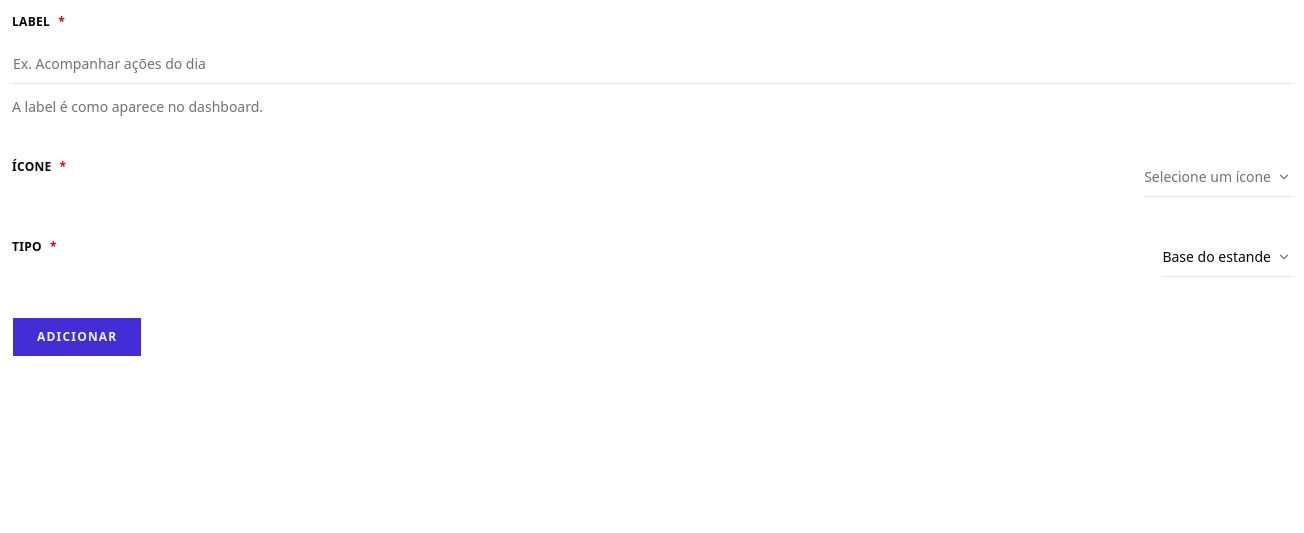
Test: ChecklistItemCreateForm › campos de horário (rotina diária) › exibe badge de período derivado ao preencher o horário de fim
Click the dropdown named "tipo" at [1227, 256], box top-left (1161, 236), bottom-right (1292, 276)
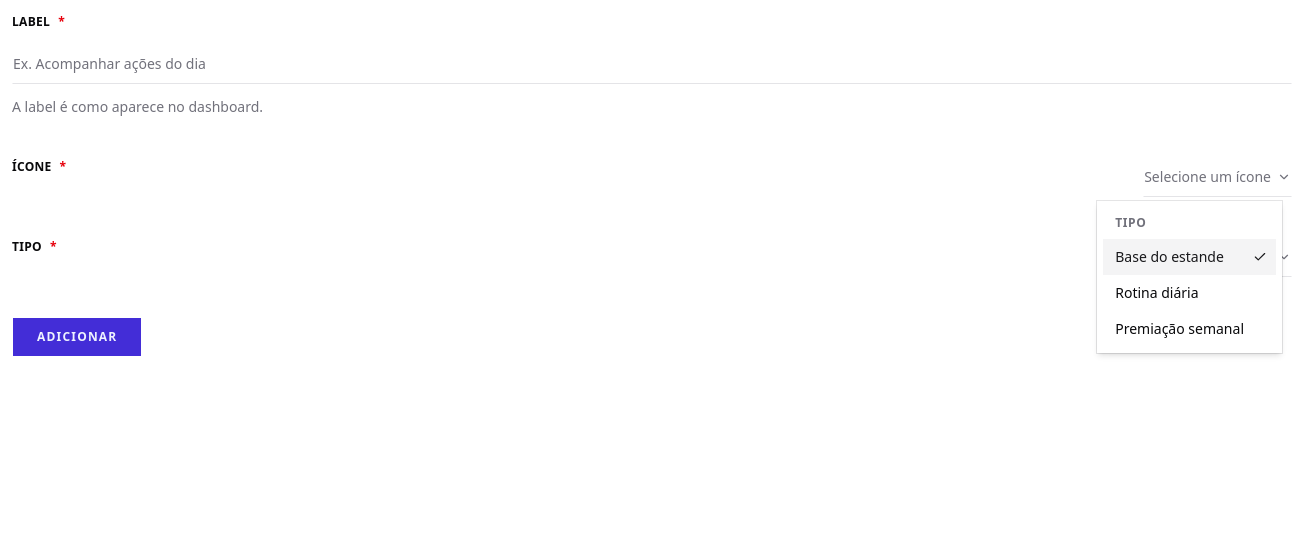
Click the option "Rotina diária" at [1157, 292], box top-left (1115, 282), bottom-right (1198, 302)
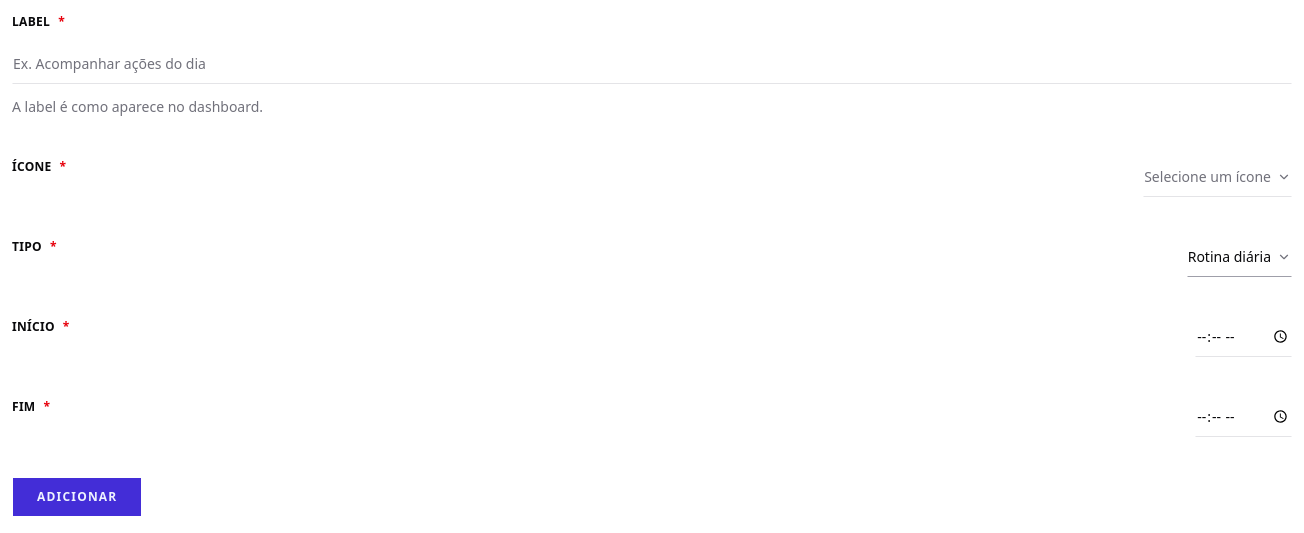
Type "10:00" into the time field labelled "Fim *" at [1244, 416], box top-left (1195, 396), bottom-right (1292, 436)
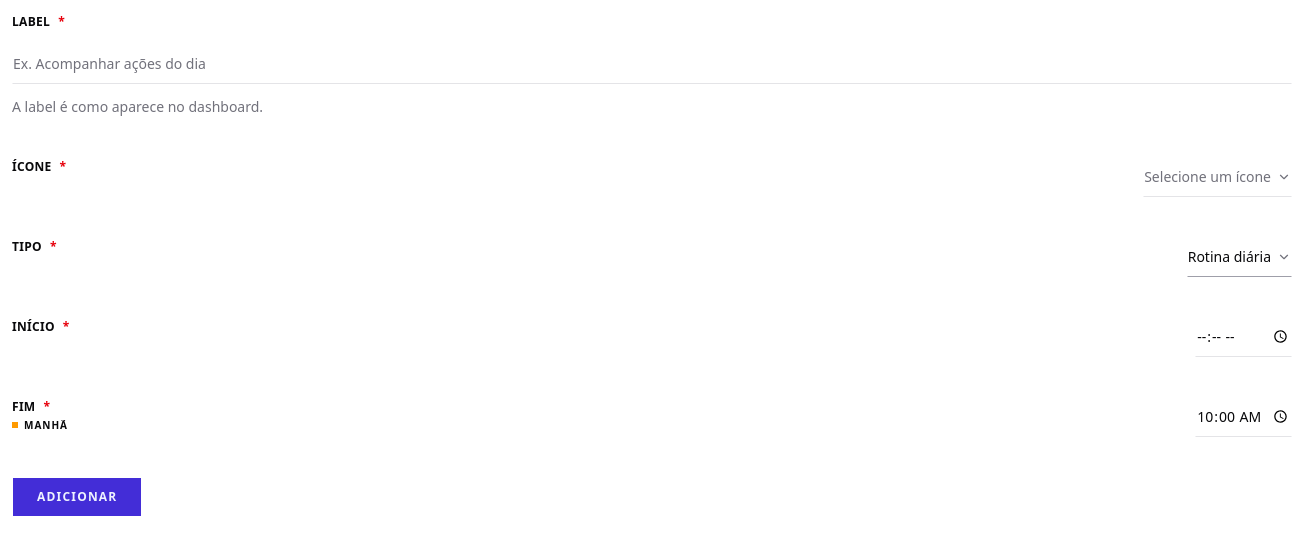
Now the icon "Manhã" is shown, box top-left (12, 420), bottom-right (68, 430)
